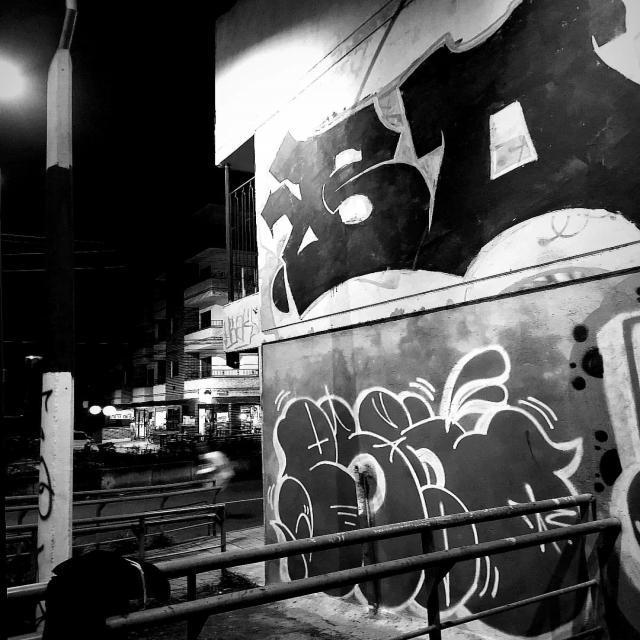-: (266, 0, 640, 335), (260, 354, 614, 640)
